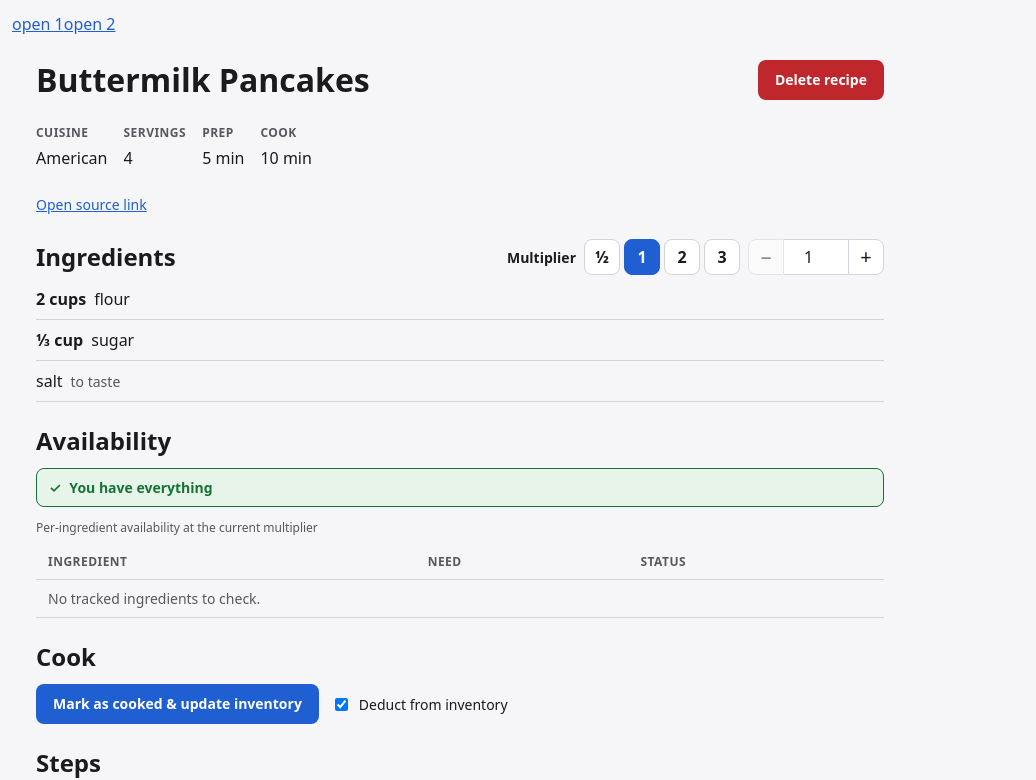
Test: RecipeDetail multiplier › rescales displayed quantities on a preset and on free input
Expected: the heading "Buttermilk Pancakes" is shown, x1=36 y1=60 x2=370 y2=100
Click the button "3" at (722, 257), box x1=704 y1=239 x2=740 y2=275
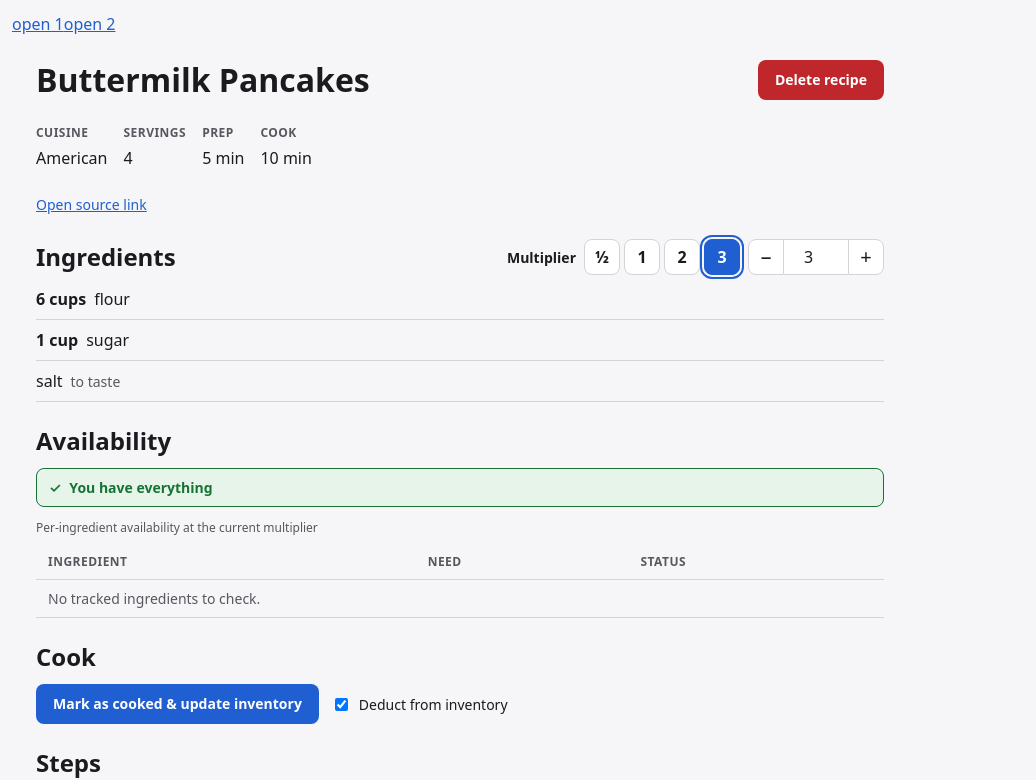
Now the list item "6 cups flour" is shown, box x1=36 y1=287 x2=884 y2=320
Now the list item "1 cup sugar" is shown, box x1=36 y1=328 x2=884 y2=361
Replace the text in the number field named "Exact value" with "2" at (816, 257), box x1=784 y1=239 x2=848 y2=275
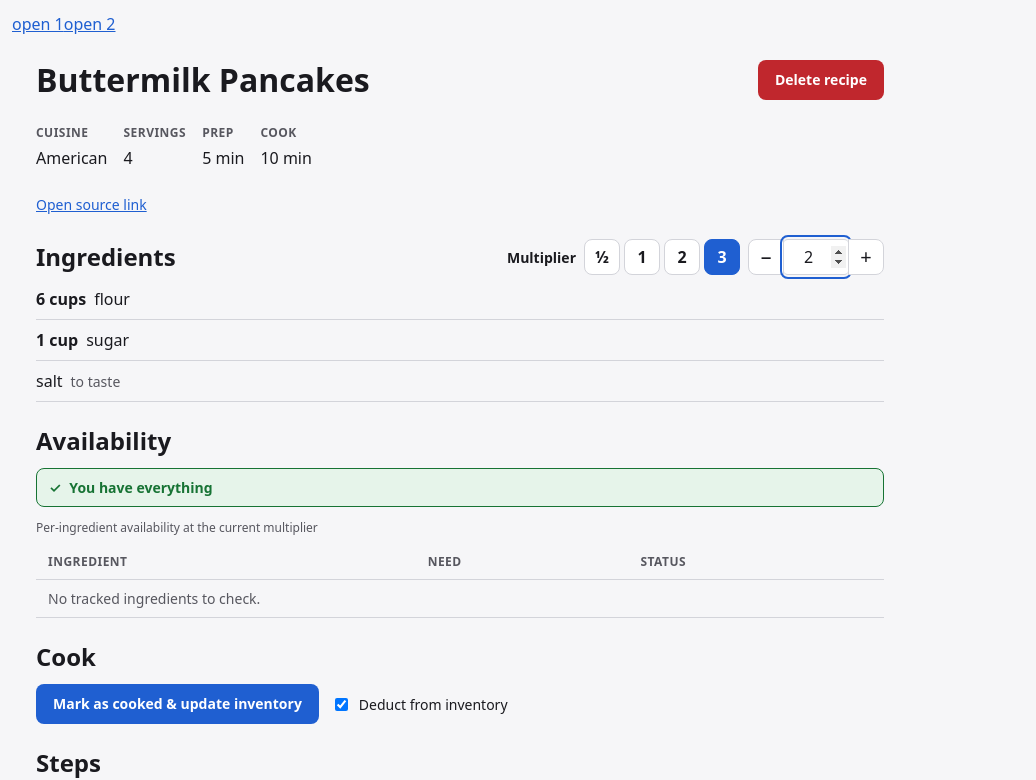
Press Tab
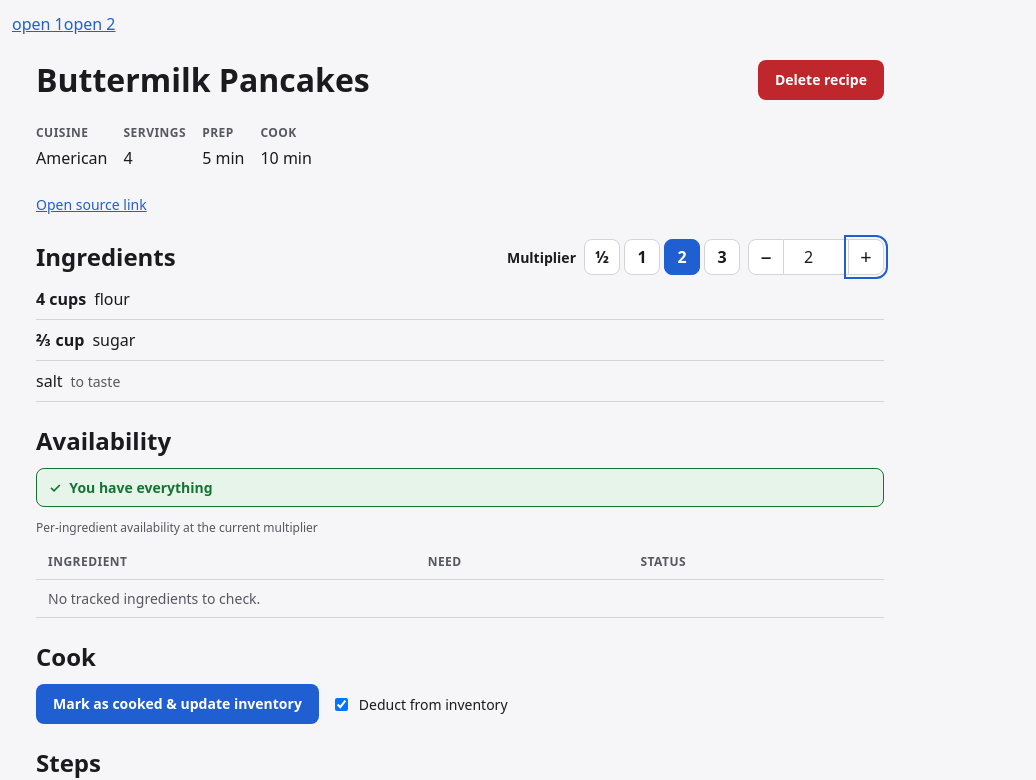
Now the list item "4 cups flour" is shown, box x1=36 y1=287 x2=884 y2=320
Now the list item "⅔ cup sugar" is shown, box x1=36 y1=328 x2=884 y2=361
